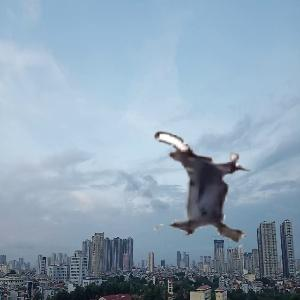drone: (136, 125, 269, 258)
